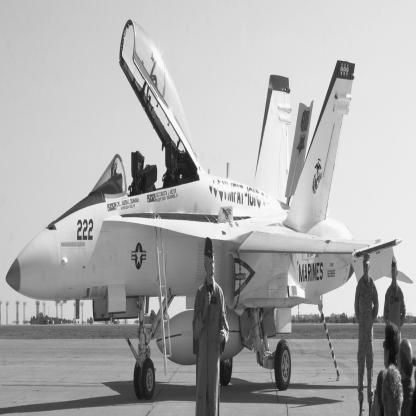F18: (7, 20, 415, 401)
